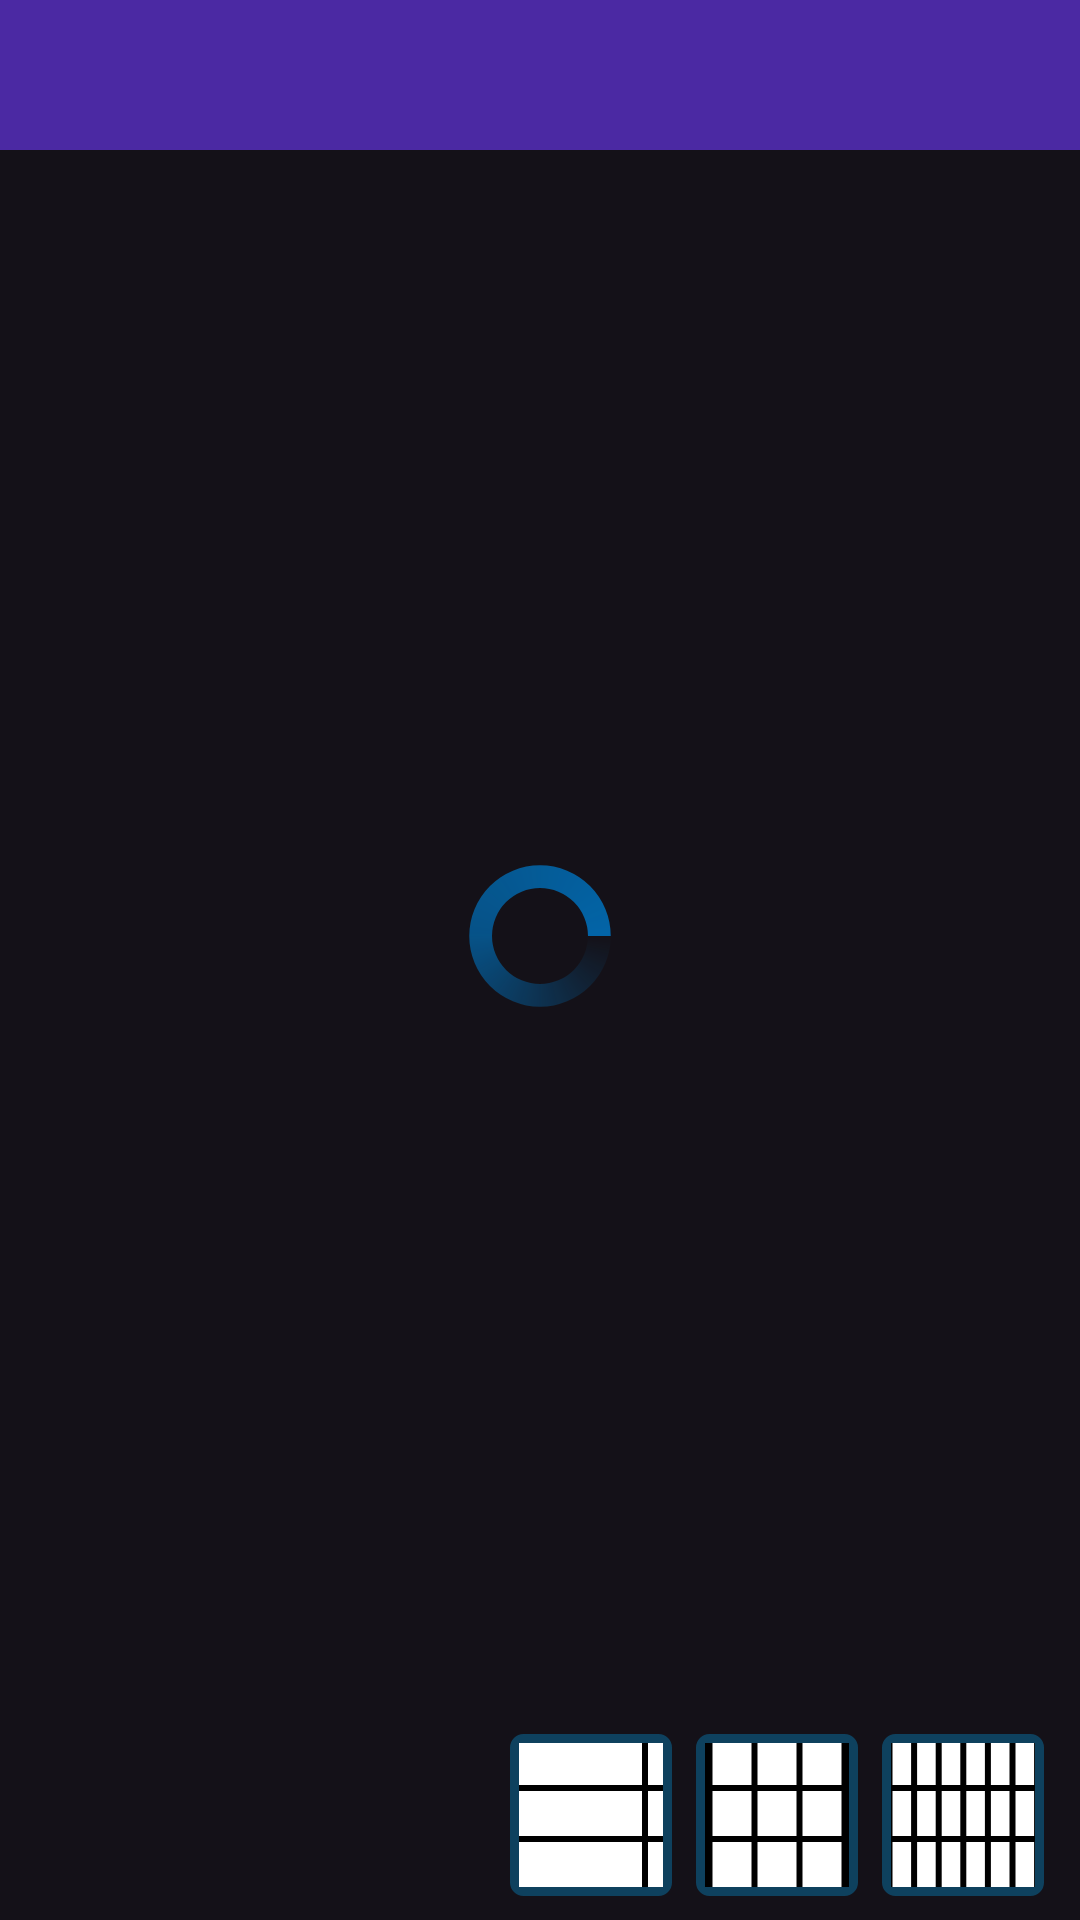

Named icons in this screenshot (1080px×1920px) and their bounding boxes, [x1=x1, y1=y1, x2=x2, y2=y2]:
view three: [x1=696, y1=1734, x2=858, y2=1896]
